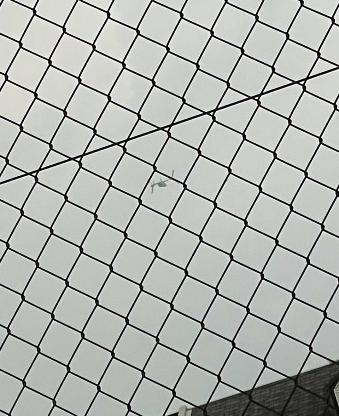Tornado: (147, 169, 178, 193)
